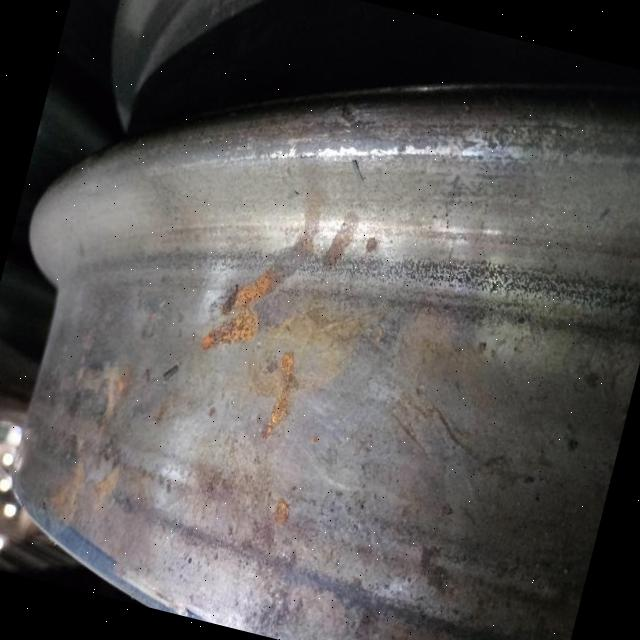Peeling: (35, 349, 151, 530), (196, 261, 277, 369), (250, 348, 308, 447)
